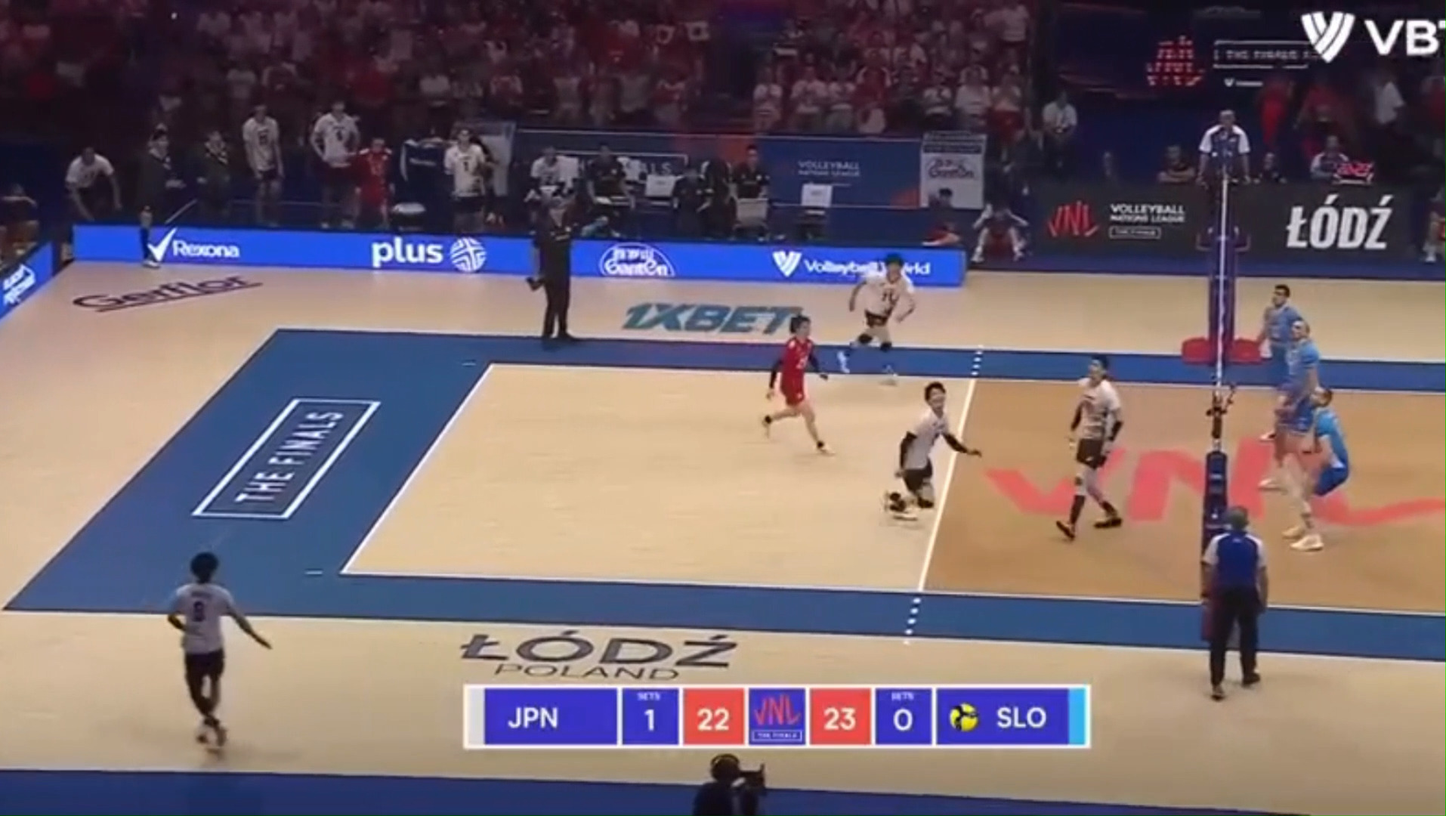player: (1287, 385, 1350, 551), (1259, 319, 1319, 491), (1256, 284, 1302, 384)
player 1: (167, 552, 270, 748), (885, 382, 980, 518), (1055, 357, 1123, 540), (837, 254, 916, 372), (762, 315, 828, 453)
referee: (1201, 506, 1268, 700), (1197, 110, 1250, 261), (527, 196, 580, 344)
